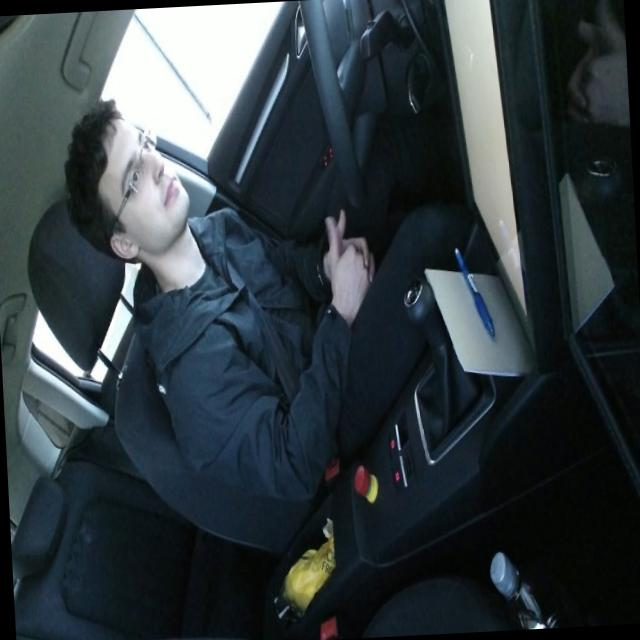pen: (453, 242, 495, 340)
